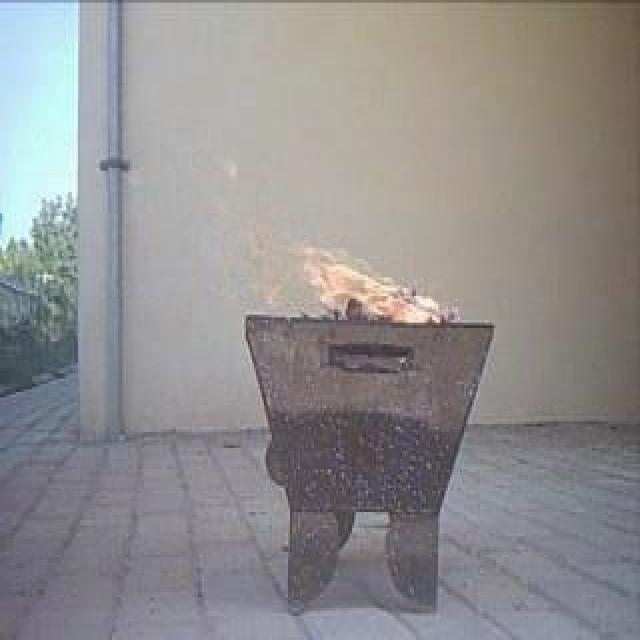fire: (222, 156, 487, 365)
